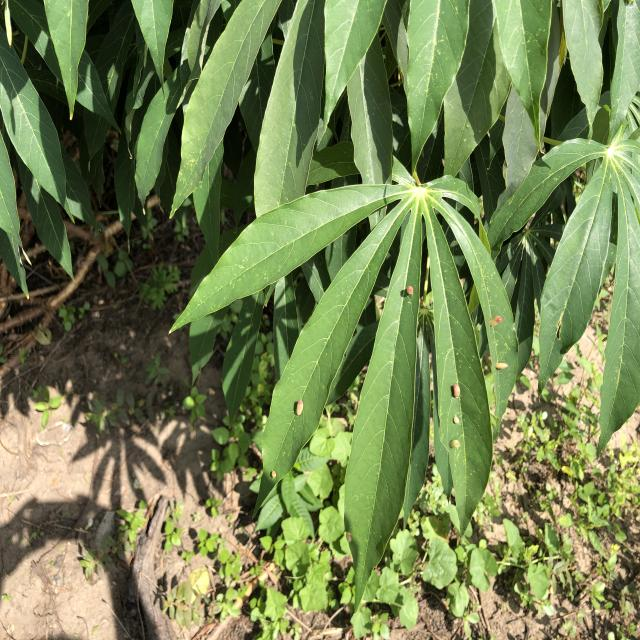Mosca: (485, 308, 523, 378), (384, 278, 441, 313), (449, 376, 470, 454), (289, 382, 311, 425), (256, 464, 282, 484)
